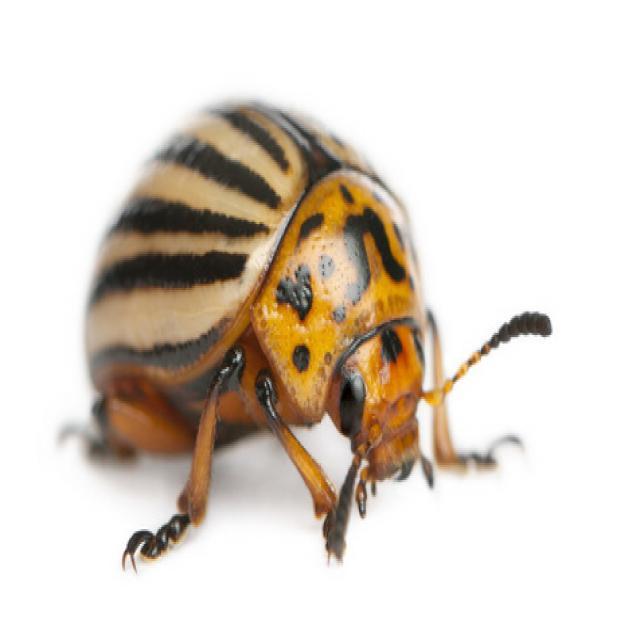ShuCaiHuaBanChong-Grown-: (68, 104, 456, 540)
